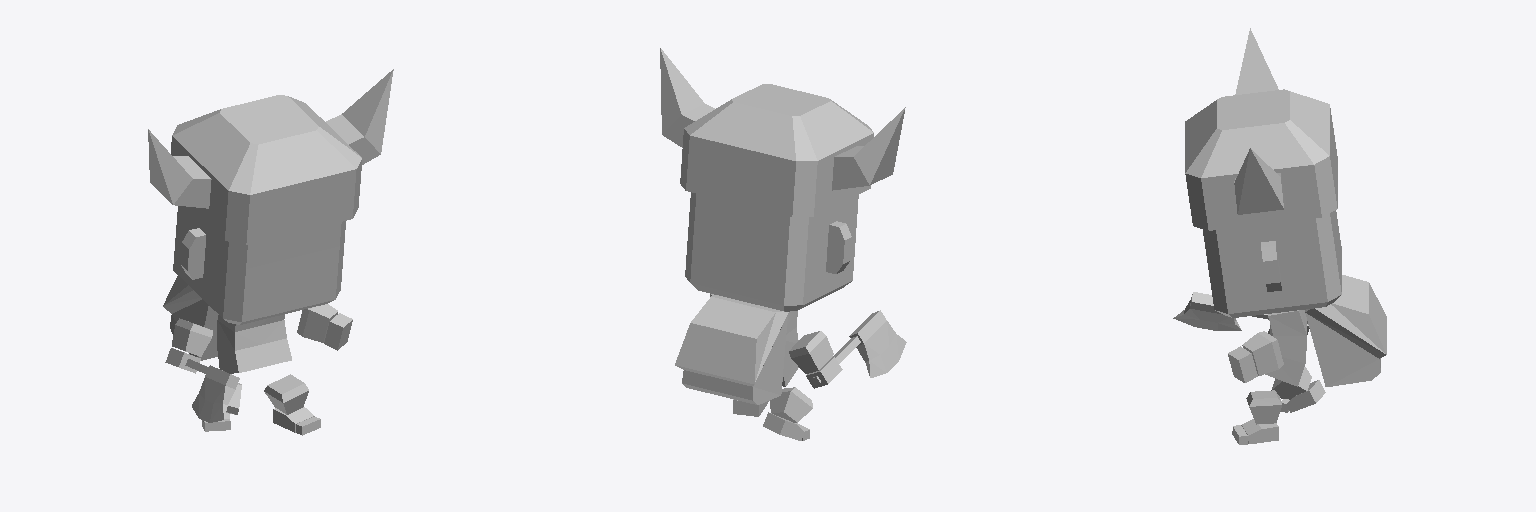
File: mini_knight_000023.obj
The picture shows the model from 3 angles: view 1: azimuth 30°, elevation 25°; view 2: azimuth 150°, elevation 25°; view 3: azimuth 270°, elevation 25°; orthographic projection.
Parts seen in each view (by area): view 1: cap_Object01_Material__3, Mesh_objheadusOBJexport_Material, back_Object03_Material__3, axe_Object02_Material__3; view 2: cap_Object01_Material__3, Mesh_objheadusOBJexport_Material, back_Object03_Material__3, axe_Object02_Material__3; view 3: cap_Object01_Material__3, Mesh_objheadusOBJexport_Material, back_Object03_Material__3, axe_Object02_Material__3.
Part boxes in pixels (x1,y1,x2,y2): cap_Object01_Material__3: (148, 69, 393, 244); Mesh_objheadusOBJexport_Material: (165, 206, 352, 435); back_Object03_Material__3: (163, 276, 218, 360); axe_Object02_Material__3: (185, 359, 239, 422); cap_Object01_Material__3: (660, 48, 905, 216); Mesh_objheadusOBJexport_Material: (685, 192, 858, 440); back_Object03_Material__3: (675, 294, 788, 404); axe_Object02_Material__3: (812, 310, 906, 384); cap_Object01_Material__3: (1185, 28, 1337, 230); Mesh_objheadusOBJexport_Material: (1203, 210, 1341, 444); back_Object03_Material__3: (1305, 275, 1386, 386); axe_Object02_Material__3: (1173, 292, 1268, 330).
Bounding box in the file's own units: 1.94 × 2.54 × 1.46.